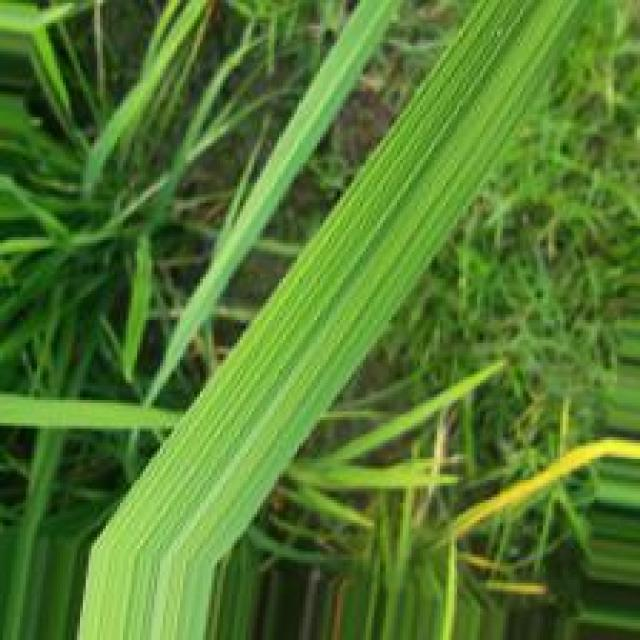HealthyLeaf: (204, 3, 586, 545)
